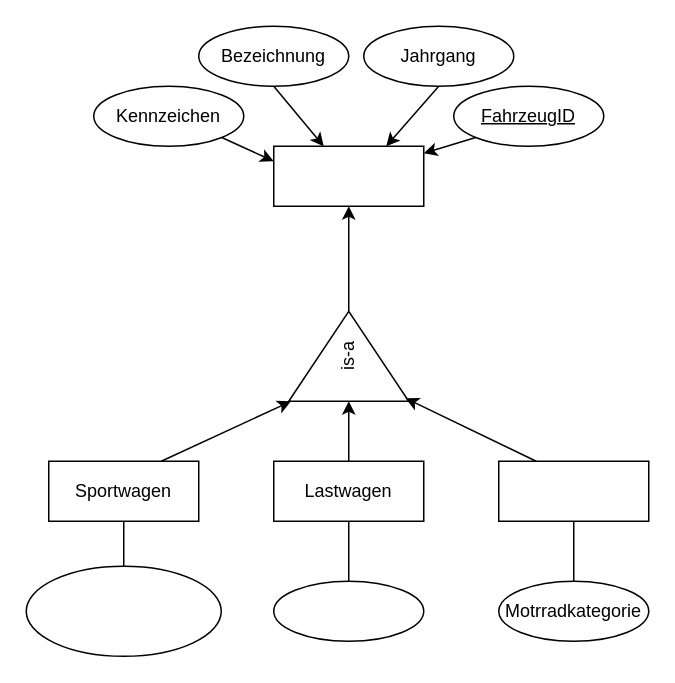
The diagram is 675 pixels wide and 683 high, and some of its shapes have lost their labels. Each missing label, with the centre of its shape:
"Abnahmbareslenkrad" goes at [123,610].
"Fahrzeug" goes at [348,175].
"Maximalgewicht" goes at [348,610].
"Motorad" goes at [573,490].
